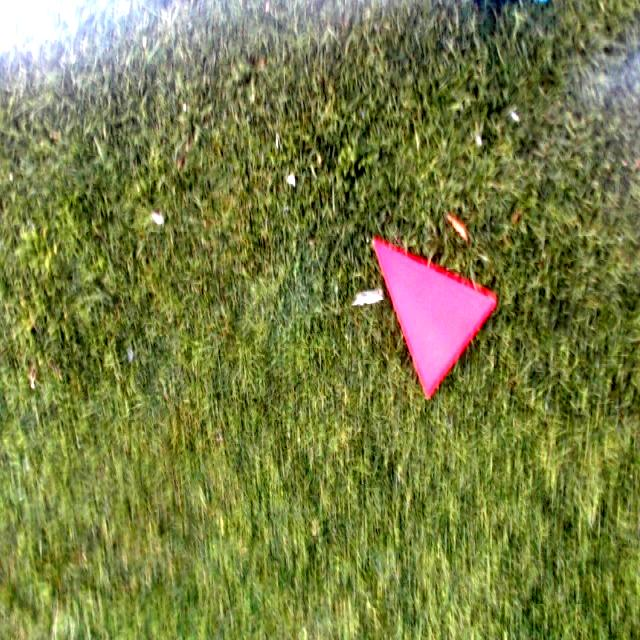red_triangle: (374, 240, 496, 402)
